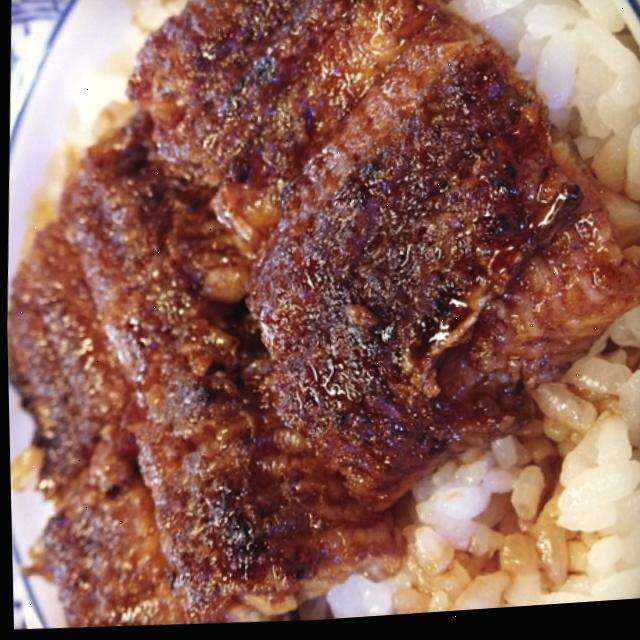汤锅炖物: (175, 98, 476, 451)
熟制海鲜: (9, 476, 601, 640)
